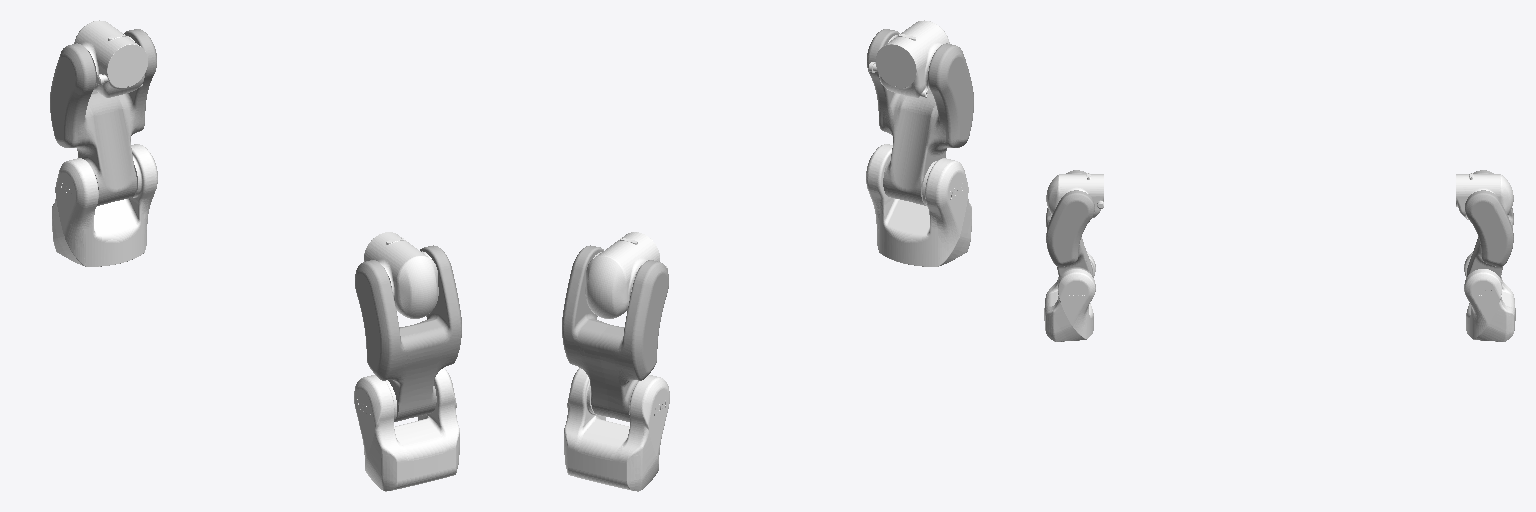
URDF robot description (dual_mz04):
<?xml version="1.0" encoding="utf-8"?>
<!-- =================================================================================== -->
<!-- |    This document was autogenerated by xacro from test_dual_mz04_arm.urdf.xacro  | -->
<!-- |    EDITING THIS FILE BY HAND IS NOT RECOMMENDED                                 | -->
<!-- =================================================================================== -->
<robot name="dual_mz04">
  <link name="base"/>
  <joint name="arm_L_joint_base" type="fixed">
    <parent link="base"/>
    <child link="arm_L_link0"/>
    <origin rpy="0 0 1.57079632679" xyz="0 -0.6 0"/>
  </joint>
  <!-- for simulation -->
  <!--    <link name="world" />-->
  <!--    <joint name="robot_to_world" type="fixed">-->
  <!--      <parent link="world" />-->
  <!--      <child link="${arm_id}_link0" />-->
  <!--      <origin xyz="0.0 0.0 0.0" rpy="0.0 0.0 0.0" />-->
  <!--    </joint>-->
  <!-- end for simulation -->
  <link name="arm_L_link0">
    <visual>
      <geometry>
        <mesh filename="package://mz04_description/meshes/visual/link0.dae"/>
      </geometry>
    </visual>
    <collision>
      <geometry>
        <mesh filename="package://mz04_description/meshes/collision/link0.stl"/>
      </geometry>
    </collision>
  </link>
  <link name="arm_L_link1">
    <visual>
      <geometry>
        <mesh filename="package://mz04_description/meshes/visual/link1.dae"/>
      </geometry>
    </visual>
    <collision>
      <geometry>
        <mesh filename="package://mz04_description/meshes/collision/link1.stl"/>
      </geometry>
    </collision>
    <!-- for simulation -->
    <inertial>
      <origin rpy="0 0 0" xyz="-0.0197023514199581 0.000938298692799631 0.0855256712156905"/>
      <mass value="3.29244591173868"/>
      <inertia ixx="0.0222350895636315" ixy="-6.0973596097687E-05" ixz="-0.00175393698078112" iyy="0.0154200096606875" iyz="-0.000258002191557829" izz="0.0150764764826899"/>
    </inertial>
    <!-- end for simulation -->
  </link>
  <joint name="arm_L_joint1" type="revolute">
    <safety_controller k_position="100.0" k_velocity="40.0" soft_lower_limit="-2.97" soft_upper_limit="2.97"/>
    <origin rpy="0 0 0" xyz="0 0 0.171"/>
    <parent link="arm_L_link0"/>
    <child link="arm_L_link1"/>
    <axis xyz="0 0 1"/>
    <limit effort="100" lower="-2.97" upper="2.97" velocity="8.38"/>
    <!-- for simulation -->
    <dynamics damping="1.0"/>
    <!-- end for simulation -->
  </joint>
  <link name="arm_L_link2">
    <visual>
      <geometry>
        <mesh filename="package://mz04_description/meshes/visual/link2.dae"/>
      </geometry>
    </visual>
    <collision>
      <geometry>
        <mesh filename="package://mz04_description/meshes/collision/link2.stl"/>
      </geometry>
    </collision>
    <!-- for simulation -->
    <inertial>
      <origin rpy="0 0 0" xyz="-0.0229430342959031 -0.129313116426115 -0.000857512097067098"/>
      <mass value="3.43354405526974"/>
      <inertia ixx="0.0374859154128489" ixy="-0.000577795026903937" ixz="6.67389962661599E-05" iyy="0.0140465634657448" iyz="0.000377486259040234" izz="0.0301480758700004"/>
    </inertial>
    <!-- end for simulation -->
  </link>
  <joint name="arm_L_joint2" type="revolute">
    <safety_controller k_position="100.0" k_velocity="40.0" soft_lower_limit="-2.53" soft_upper_limit="1.57"/>
    <origin rpy="-1.57079632679 0 0" xyz="0 0 0.169"/>
    <parent link="arm_L_link1"/>
    <child link="arm_L_link2"/>
    <axis xyz="0 0 -1"/>
    <limit effort="100" lower="-2.53" upper="1.57" velocity="8.03"/>
    <!-- for simulation -->
    <dynamics damping="1.0"/>
    <!-- end for simulation -->
  </joint>
  <link name="arm_L_link3">
    <visual>
      <geometry>
        <mesh filename="package://mz04_description/meshes/visual/link3.dae"/>
      </geometry>
    </visual>
    <collision>
      <geometry>
        <mesh filename="package://mz04_description/meshes/collision/link3.stl"/>
      </geometry>
    </collision>
    <!-- for simulation -->
    <inertial>
      <origin rpy="0 0 0" xyz="0.00557516997606589 -0.000280097155568842 -0.000264708631542377"/>
      <mass value="1.75772574412506"/>
      <inertia ixx="0.0032167713214568" ixy="-0.000191167581086016" ixz="1.23933539489604E-06" iyy="0.00322653422939074" iyz="5.25316745371768E-06" izz="0.00390619750681237"/>
    </inertial>
    <!-- end for simulation -->
  </link>
  <joint name="arm_L_joint3" type="revolute">
    <safety_controller k_position="100.0" k_velocity="40.0" soft_lower_limit="-2.18" soft_upper_limit="4.89"/>
    <origin rpy="0 0 -1.57079632679" xyz="0 -0.26 0"/>
    <parent link="arm_L_link2"/>
    <child link="arm_L_link3"/>
    <axis xyz="0 0 -1"/>
    <limit effort="100" lower="-2.18" upper="4.89" velocity="9.08"/>
    <!-- for simulation -->
    <dynamics damping="1.0"/>
    <!-- end for simulation -->
  </joint>
  <link name="arm_L_link4">
    <visual>
      <geometry>
        <mesh filename="package://mz04_description/meshes/visual/link4.dae"/>
      </geometry>
    </visual>
    <collision>
      <geometry>
        <mesh filename="package://mz04_description/meshes/collision/link4.stl"/>
      </geometry>
    </collision>
    <!-- for simulation -->
    <inertial>
      <origin rpy="0 0 0" xyz="0.00309024473150554 -0.000145366515908234 -0.102946189818116"/>
      <mass value="1.70562401190118"/>
      <inertia ixx="0.00721639807702088" ixy="-3.42236031590701E-07" ixz="5.92374124737924E-05" iyy="0.00686286874449402" iyz="5.84968158425155E-06" izz="0.00220615434229459"/>
    </inertial>
    <!-- end for simulation -->
  </link>
  <joint name="arm_L_joint4" type="revolute">
    <safety_controller k_position="100.0" k_velocity="40.0" soft_lower_limit="-3.32" soft_upper_limit="3.32"/>
    <origin rpy="-1.57079632679 0 0" xyz="0.0249999999999999 0.28 0"/>
    <parent link="arm_L_link3"/>
    <child link="arm_L_link4"/>
    <axis xyz="0 0 1"/>
    <limit effort="100" lower="-3.32" upper="3.32" velocity="9.77"/>
    <!-- for simulation -->
    <dynamics damping="1.0"/>
    <!-- end for simulation -->
  </joint>
  <link name="arm_L_link5">
    <visual>
      <geometry>
        <mesh filename="package://mz04_description/meshes/visual/link5.dae"/>
      </geometry>
    </visual>
    <collision>
      <geometry>
        <mesh filename="package://mz04_description/meshes/collision/link5.stl"/>
      </geometry>
    </collision>
    <!-- for simulation -->
    <inertial>
      <origin rpy="0 0 0" xyz="-5.86547276966165E-05 0.0199090373472192 -0.00293631213635448"/>
      <mass value="0.336399836903676"/>
      <inertia ixx="0.000446624368283086" ixy="2.47061371480887E-07" ixz="6.15821325897774E-07" iyy="0.000330568174441235" iyz="-1.87705108529991E-05" izz="0.000351036334434016"/>
    </inertial>
    <!-- end for simulation -->
  </link>
  <joint name="arm_L_joint5" type="revolute">
    <safety_controller k_position="100.0" k_velocity="40.0" soft_lower_limit="-2.09" soft_upper_limit="2.09"/>
    <origin rpy="1.57079632679 0 0" xyz="0 0 0"/>
    <parent link="arm_L_link4"/>
    <child link="arm_L_link5"/>
    <axis xyz="0 0 -1"/>
    <limit effort="100" lower="-2.09" upper="2.09" velocity="9.77"/>
    <!-- for simulation -->
    <dynamics damping="1.0"/>
    <!-- end for simulation -->
  </joint>
  <link name="arm_L_link6">
    <visual>
      <geometry>
        <mesh filename="package://mz04_description/meshes/visual/link6.dae"/>
      </geometry>
    </visual>
    <collision>
      <geometry>
        <mesh filename="package://mz04_description/meshes/collision/link6.stl"/>
      </geometry>
    </collision>
    <!-- for simulation -->
    <inertial>
      <origin rpy="0 0 0" xyz="0.00020870301755449 5.54207254168023E-05 0.0685507759319275"/>
      <mass value="0.0340082287388899"/>
      <inertia ixx="8.72489057883343E-06" ixy="5.14603740499548E-08" ixz="-7.72265367887762E-09" iyy="8.58258061822553E-06" iyz="-2.01661845696461E-09" izz="1.61785714739617E-05"/>
    </inertial>
    <!-- end for simulation -->
  </link>
  <joint name="arm_L_joint6" type="revolute">
    <safety_controller k_position="100.0" k_velocity="40.0" soft_lower_limit="-6.28" soft_upper_limit="6.28"/>
    <origin rpy="-1.57079632679 0 0" xyz="0 0.072 0"/>
    <parent link="arm_L_link5"/>
    <child link="arm_L_link6"/>
    <axis xyz="0 0 1"/>
    <limit effort="10" lower="-6.28" upper="6.28" velocity="15.71"/>
    <!-- for simulation -->
    <dynamics damping="1.0"/>
    <!-- end for simulation -->
  </joint>
  <joint name="arm_R_joint_base" type="fixed">
    <parent link="base"/>
    <child link="arm_R_link0"/>
    <origin rpy="0 0 -1.57079632679" xyz="0 0.6 0"/>
  </joint>
  <!-- for simulation -->
  <!--    <link name="world" />-->
  <!--    <joint name="robot_to_world" type="fixed">-->
  <!--      <parent link="world" />-->
  <!--      <child link="${arm_id}_link0" />-->
  <!--      <origin xyz="0.0 0.0 0.0" rpy="0.0 0.0 0.0" />-->
  <!--    </joint>-->
  <!-- end for simulation -->
  <link name="arm_R_link0">
    <visual>
      <geometry>
        <mesh filename="package://mz04_description/meshes/visual/link0.dae"/>
      </geometry>
    </visual>
    <collision>
      <geometry>
        <mesh filename="package://mz04_description/meshes/collision/link0.stl"/>
      </geometry>
    </collision>
  </link>
  <link name="arm_R_link1">
    <visual>
      <geometry>
        <mesh filename="package://mz04_description/meshes/visual/link1.dae"/>
      </geometry>
    </visual>
    <collision>
      <geometry>
        <mesh filename="package://mz04_description/meshes/collision/link1.stl"/>
      </geometry>
    </collision>
    <!-- for simulation -->
    <inertial>
      <origin rpy="0 0 0" xyz="-0.0197023514199581 0.000938298692799631 0.0855256712156905"/>
      <mass value="3.29244591173868"/>
      <inertia ixx="0.0222350895636315" ixy="-6.0973596097687E-05" ixz="-0.00175393698078112" iyy="0.0154200096606875" iyz="-0.000258002191557829" izz="0.0150764764826899"/>
    </inertial>
    <!-- end for simulation -->
  </link>
  <joint name="arm_R_joint1" type="revolute">
    <safety_controller k_position="100.0" k_velocity="40.0" soft_lower_limit="-2.97" soft_upper_limit="2.97"/>
    <origin rpy="0 0 0" xyz="0 0 0.171"/>
    <parent link="arm_R_link0"/>
    <child link="arm_R_link1"/>
    <axis xyz="0 0 1"/>
    <limit effort="100" lower="-2.97" upper="2.97" velocity="8.38"/>
    <!-- for simulation -->
    <dynamics damping="1.0"/>
    <!-- end for simulation -->
  </joint>
  <link name="arm_R_link2">
    <visual>
      <geometry>
        <mesh filename="package://mz04_description/meshes/visual/link2.dae"/>
      </geometry>
    </visual>
    <collision>
      <geometry>
        <mesh filename="package://mz04_description/meshes/collision/link2.stl"/>
      </geometry>
    </collision>
    <!-- for simulation -->
    <inertial>
      <origin rpy="0 0 0" xyz="-0.0229430342959031 -0.129313116426115 -0.000857512097067098"/>
      <mass value="3.43354405526974"/>
      <inertia ixx="0.0374859154128489" ixy="-0.000577795026903937" ixz="6.67389962661599E-05" iyy="0.0140465634657448" iyz="0.000377486259040234" izz="0.0301480758700004"/>
    </inertial>
    <!-- end for simulation -->
  </link>
  <joint name="arm_R_joint2" type="revolute">
    <safety_controller k_position="100.0" k_velocity="40.0" soft_lower_limit="-2.53" soft_upper_limit="1.57"/>
    <origin rpy="-1.57079632679 0 0" xyz="0 0 0.169"/>
    <parent link="arm_R_link1"/>
    <child link="arm_R_link2"/>
    <axis xyz="0 0 -1"/>
    <limit effort="100" lower="-2.53" upper="1.57" velocity="8.03"/>
    <!-- for simulation -->
    <dynamics damping="1.0"/>
    <!-- end for simulation -->
  </joint>
  <link name="arm_R_link3">
    <visual>
      <geometry>
        <mesh filename="package://mz04_description/meshes/visual/link3.dae"/>
      </geometry>
    </visual>
    <collision>
      <geometry>
        <mesh filename="package://mz04_description/meshes/collision/link3.stl"/>
      </geometry>
    </collision>
    <!-- for simulation -->
    <inertial>
      <origin rpy="0 0 0" xyz="0.00557516997606589 -0.000280097155568842 -0.000264708631542377"/>
      <mass value="1.75772574412506"/>
      <inertia ixx="0.0032167713214568" ixy="-0.000191167581086016" ixz="1.23933539489604E-06" iyy="0.00322653422939074" iyz="5.25316745371768E-06" izz="0.00390619750681237"/>
    </inertial>
    <!-- end for simulation -->
  </link>
  <joint name="arm_R_joint3" type="revolute">
    <safety_controller k_position="100.0" k_velocity="40.0" soft_lower_limit="-2.18" soft_upper_limit="4.89"/>
    <origin rpy="0 0 -1.57079632679" xyz="0 -0.26 0"/>
    <parent link="arm_R_link2"/>
    <child link="arm_R_link3"/>
    <axis xyz="0 0 -1"/>
    <limit effort="100" lower="-2.18" upper="4.89" velocity="9.08"/>
    <!-- for simulation -->
    <dynamics damping="1.0"/>
    <!-- end for simulation -->
  </joint>
  <link name="arm_R_link4">
    <visual>
      <geometry>
        <mesh filename="package://mz04_description/meshes/visual/link4.dae"/>
      </geometry>
    </visual>
    <collision>
      <geometry>
        <mesh filename="package://mz04_description/meshes/collision/link4.stl"/>
      </geometry>
    </collision>
    <!-- for simulation -->
    <inertial>
      <origin rpy="0 0 0" xyz="0.00309024473150554 -0.000145366515908234 -0.102946189818116"/>
      <mass value="1.70562401190118"/>
      <inertia ixx="0.00721639807702088" ixy="-3.42236031590701E-07" ixz="5.92374124737924E-05" iyy="0.00686286874449402" iyz="5.84968158425155E-06" izz="0.00220615434229459"/>
    </inertial>
    <!-- end for simulation -->
  </link>
  <joint name="arm_R_joint4" type="revolute">
    <safety_controller k_position="100.0" k_velocity="40.0" soft_lower_limit="-3.32" soft_upper_limit="3.32"/>
    <origin rpy="-1.57079632679 0 0" xyz="0.0249999999999999 0.28 0"/>
    <parent link="arm_R_link3"/>
    <child link="arm_R_link4"/>
    <axis xyz="0 0 1"/>
    <limit effort="100" lower="-3.32" upper="3.32" velocity="9.77"/>
    <!-- for simulation -->
    <dynamics damping="1.0"/>
    <!-- end for simulation -->
  </joint>
  <link name="arm_R_link5">
    <visual>
      <geometry>
        <mesh filename="package://mz04_description/meshes/visual/link5.dae"/>
      </geometry>
    </visual>
    <collision>
      <geometry>
        <mesh filename="package://mz04_description/meshes/collision/link5.stl"/>
      </geometry>
    </collision>
    <!-- for simulation -->
    <inertial>
      <origin rpy="0 0 0" xyz="-5.86547276966165E-05 0.0199090373472192 -0.00293631213635448"/>
      <mass value="0.336399836903676"/>
      <inertia ixx="0.000446624368283086" ixy="2.47061371480887E-07" ixz="6.15821325897774E-07" iyy="0.000330568174441235" iyz="-1.87705108529991E-05" izz="0.000351036334434016"/>
    </inertial>
    <!-- end for simulation -->
  </link>
  <joint name="arm_R_joint5" type="revolute">
    <safety_controller k_position="100.0" k_velocity="40.0" soft_lower_limit="-2.09" soft_upper_limit="2.09"/>
    <origin rpy="1.57079632679 0 0" xyz="0 0 0"/>
    <parent link="arm_R_link4"/>
    <child link="arm_R_link5"/>
    <axis xyz="0 0 -1"/>
    <limit effort="100" lower="-2.09" upper="2.09" velocity="9.77"/>
    <!-- for simulation -->
    <dynamics damping="1.0"/>
    <!-- end for simulation -->
  </joint>
  <link name="arm_R_link6">
    <visual>
      <geometry>
        <mesh filename="package://mz04_description/meshes/visual/link6.dae"/>
      </geometry>
    </visual>
    <collision>
      <geometry>
        <mesh filename="package://mz04_description/meshes/collision/link6.stl"/>
      </geometry>
    </collision>
    <!-- for simulation -->
    <inertial>
      <origin rpy="0 0 0" xyz="0.00020870301755449 5.54207254168023E-05 0.0685507759319275"/>
      <mass value="0.0340082287388899"/>
      <inertia ixx="8.72489057883343E-06" ixy="5.14603740499548E-08" ixz="-7.72265367887762E-09" iyy="8.58258061822553E-06" iyz="-2.01661845696461E-09" izz="1.61785714739617E-05"/>
    </inertial>
    <!-- end for simulation -->
  </link>
  <joint name="arm_R_joint6" type="revolute">
    <safety_controller k_position="100.0" k_velocity="40.0" soft_lower_limit="-6.28" soft_upper_limit="6.28"/>
    <origin rpy="-1.57079632679 0 0" xyz="0 0.072 0"/>
    <parent link="arm_R_link5"/>
    <child link="arm_R_link6"/>
    <axis xyz="0 0 1"/>
    <limit effort="10" lower="-6.28" upper="6.28" velocity="15.71"/>
    <!-- for simulation -->
    <dynamics damping="1.0"/>
    <!-- end for simulation -->
  </joint>
  <joint name="arm_L_link6_hand_L_ee_joint" type="fixed">
    <origin rpy="0 0 -3.14159265359" xyz="0 0 0"/>
    <parent link="arm_L_link6"/>
    <child link="hand_L_base"/>
  </joint>
  <link name="hand_L_base">
    <visual>
      <geometry>
        <!--          <mesh filename="package://mz04_description/meshes/visual/robotiq_epick.dae"/>-->
        <mesh filename="package://mz04_description/meshes/visual/white-robotiq_epick.dae"/>
      </geometry>
    </visual>
    <collision>
      <geometry>
        <mesh filename="package://mz04_description/meshes/collision/robotiq_epick.stl"/>
      </geometry>
    </collision>
    <!-- for simulation -->
    <inertial>
      <origin rpy="0 0 0" xyz="0 0 0"/>
      <mass value="2"/>
      <inertia ixx="0.1" ixy="0.0" ixz="0.0" iyy="0.1" iyz="0.0" izz="0.1"/>
    </inertial>
    <!-- end for simulation -->
  </link>
  <link name="hand_L_ee_link"/>
  <joint name="hand_L_ee_joint" type="fixed">
    <origin rpy="0 0 -0.785398163397" xyz="0 0 0.1895"/>
    <parent link="hand_L_base"/>
    <child link="hand_L_ee_link"/>
    <axis xyz="0 0 0"/>
  </joint>
  <joint name="arm_R_link6_hand_R_ee_joint" type="fixed">
    <origin rpy="0 0 -1.57079632679" xyz="0 0 0"/>
    <parent link="arm_R_link6"/>
    <child link="hand_R_base"/>
  </joint>
  <link name="hand_R_base">
    <visual>
      <geometry>
        <!--          <mesh filename="package://mz04_description/meshes/visual/robotiq_hande.dae"/>-->
        <mesh filename="package://mz04_description/meshes/visual/white-robotiq_hande.dae"/>
      </geometry>
    </visual>
    <collision>
      <geometry>
        <mesh filename="package://mz04_description/meshes/collision/robotiq_hande.stl"/>
      </geometry>
    </collision>
    <!-- for simulation -->
    <inertial>
      <origin rpy="0 0 0" xyz="0 0 0"/>
      <mass value="2"/>
      <inertia ixx="0.1" ixy="0.0" ixz="0.0" iyy="0.1" iyz="0.0" izz="0.1"/>
    </inertial>
    <!-- end for simulation -->
  </link>
  <link name="hand_R_ee_link"/>
  <joint name="hand_R_ee_joint" type="fixed">
    <origin rpy="0 0 -0.785398163397" xyz="0 0 0.1983"/>
    <parent link="hand_R_base"/>
    <child link="hand_R_ee_link"/>
    <axis xyz="0 0 0"/>
  </joint>
</robot>

--- What the picture shows (computed from the rendered views, not written in the file) ---
The picture shows the robot from 3 angles, left to right: view 1: azimuth 30°, elevation 25°; view 2: azimuth 150°, elevation 25°; view 3: azimuth 270°, elevation 25°; orthographic projection.
Model dual_mz04 with 19 links and 18 joints (12 revolute, 6 fixed), rooted at base, posed every joint at zero.
Links seen in each view (by area): view 1: arm_L_link2, arm_R_link2, arm_L_link1, arm_R_link1, arm_L_link3, arm_R_link3; view 2: arm_R_link2, arm_L_link2, arm_R_link1, arm_L_link1, arm_R_link3, arm_L_link3; view 3: arm_L_link1, arm_R_link1, arm_R_link2, arm_L_link2, arm_L_link3, arm_R_link3.
Link boxes in pixels (x1,y1,x2,y2): arm_L_link2: (355,245,461,421); arm_R_link2: (50,29,156,205); arm_L_link1: (354,367,459,491); arm_R_link1: (52,144,157,266); arm_L_link3: (364,232,438,318); arm_R_link3: (74,20,147,97); arm_R_link2: (562,245,668,421); arm_L_link2: (867,29,973,205); arm_R_link1: (564,367,669,491); arm_L_link1: (866,144,971,266); arm_R_link3: (585,232,667,318); arm_L_link3: (868,20,949,97); arm_L_link1: (1044,252,1095,341); arm_R_link1: (1464,252,1515,341); arm_R_link2: (1465,170,1513,277); arm_L_link2: (1046,170,1094,277); arm_L_link3: (1046,173,1103,217); arm_R_link3: (1456,173,1513,219).
Size in the robot's own frame: 0.191 by 1.39 by 0.503 metres.
Meshes: 9 distinct files referenced, 6 mesh visuals loaded (3 Collada DAE); not drawn: 10 (reference not matched to a file when rendering).